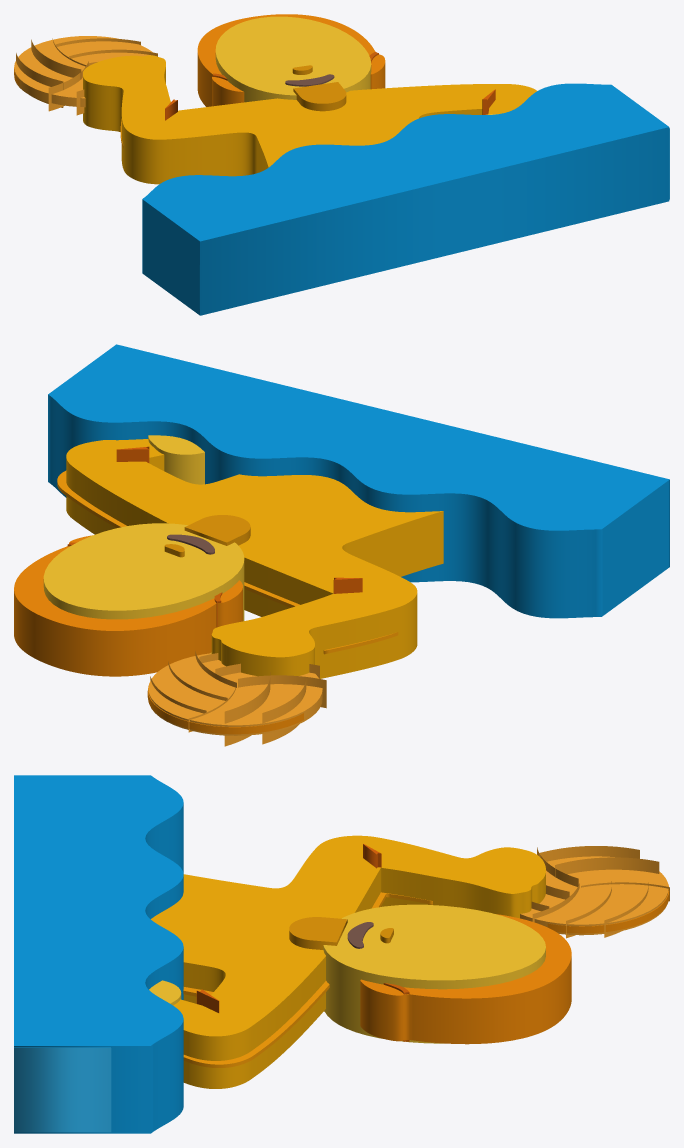
File: emoji_u1f93d.glb
3 renders of one model, top to bottom at view 1: azimuth 30°, elevation 25°; view 2: azimuth 150°, elevation 25°; view 3: azimuth 270°, elevation 25°, orthographic. The views are drawn at different scales.
Visible parts, largest first — view 1: emoji_u1f93d; view 2: emoji_u1f93d; view 3: emoji_u1f93d.
Part boxes in pixels (x1,y1,x2,y2): emoji_u1f93d: [14, 14, 669, 315]; emoji_u1f93d: [14, 344, 669, 746]; emoji_u1f93d: [14, 775, 669, 1133].
Bounding box in the file's own units: 0.0331 × 0.005 × 0.0339.
